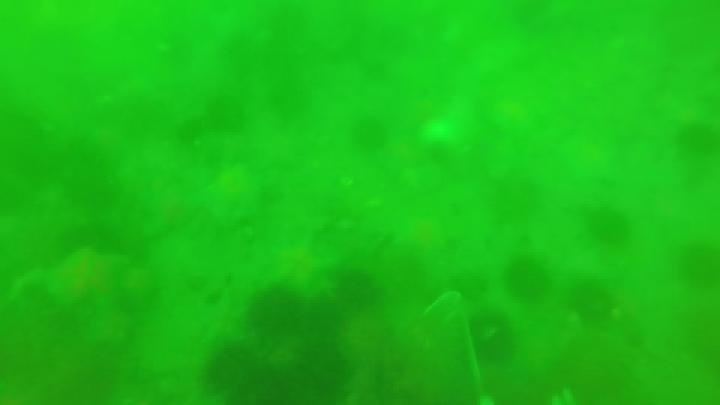echinus: (1, 293, 118, 402), (558, 334, 636, 404), (271, 338, 351, 403), (55, 142, 121, 212), (202, 343, 269, 402), (247, 286, 305, 338), (464, 311, 517, 367), (489, 173, 542, 225), (566, 278, 617, 326), (503, 256, 552, 304), (683, 306, 719, 370), (676, 239, 719, 291), (333, 268, 383, 311), (583, 205, 632, 247), (300, 297, 347, 340), (674, 119, 718, 159), (349, 115, 390, 155), (174, 116, 206, 147)
starfish: (36, 246, 133, 320), (188, 162, 270, 229), (265, 234, 337, 299)
